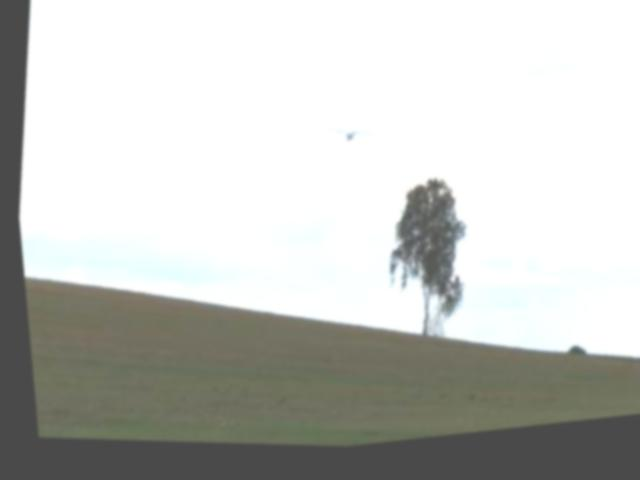uav: (317, 122, 375, 158)
